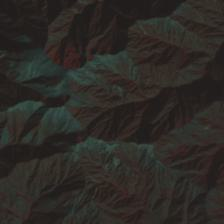landslides: (3, 204, 22, 224), (92, 184, 112, 199), (48, 21, 71, 32), (112, 159, 121, 179), (158, 45, 169, 61), (205, 79, 214, 97)
